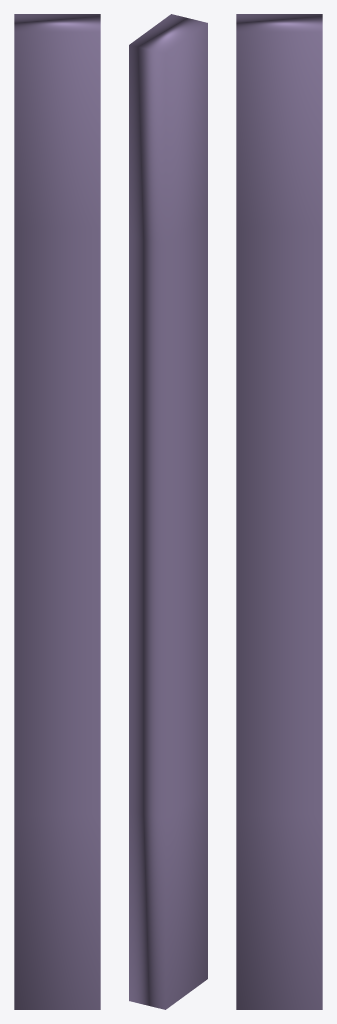
Rendered from Wall_Orn_01_x5.fbx.
The picture shows the model from 3 angles, left to right: view 1: azimuth 90°, elevation 25°; view 2: azimuth 150°, elevation 25°; view 3: azimuth 270°, elevation 25°; orthographic projection. The views are drawn at different scales.
Parts seen in each view (by area): view 1: Wall_Orn_01_x5; view 2: Wall_Orn_01_x5; view 3: Wall_Orn_01_x5.
Part boxes in pixels (x1,y1,x2,y2): Wall_Orn_01_x5: [14, 14, 100, 1009]; Wall_Orn_01_x5: [129, 14, 207, 1009]; Wall_Orn_01_x5: [236, 14, 322, 1009].
Size of the model in its own units: 30 by 750 by 60.
